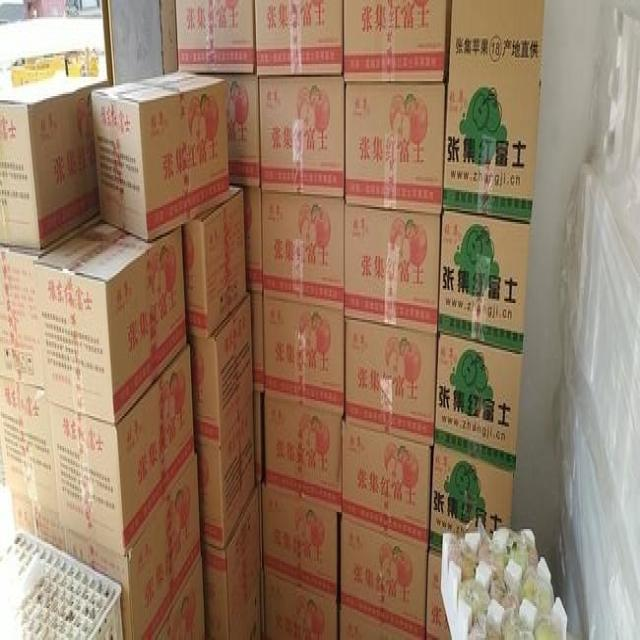box: (34, 222, 187, 425), (49, 346, 195, 557), (60, 454, 200, 640), (92, 73, 228, 243), (442, 0, 544, 222), (0, 73, 106, 250), (438, 211, 531, 352), (345, 83, 445, 213), (434, 333, 524, 471), (345, 205, 440, 333), (345, 318, 437, 446), (343, 420, 431, 550), (341, 516, 428, 640), (0, 375, 59, 550), (258, 79, 344, 198), (188, 292, 253, 448), (262, 192, 344, 311), (182, 188, 246, 337), (429, 444, 513, 555), (202, 484, 260, 640), (264, 299, 344, 412), (197, 393, 255, 548), (344, 0, 451, 83), (265, 397, 342, 512), (263, 486, 337, 599), (200, 73, 260, 186), (255, 0, 343, 77), (0, 247, 43, 388), (175, 0, 255, 73), (264, 574, 337, 640), (158, 557, 204, 637), (339, 606, 424, 640), (425, 553, 452, 640), (244, 188, 263, 292), (250, 290, 264, 393), (254, 393, 265, 486)
